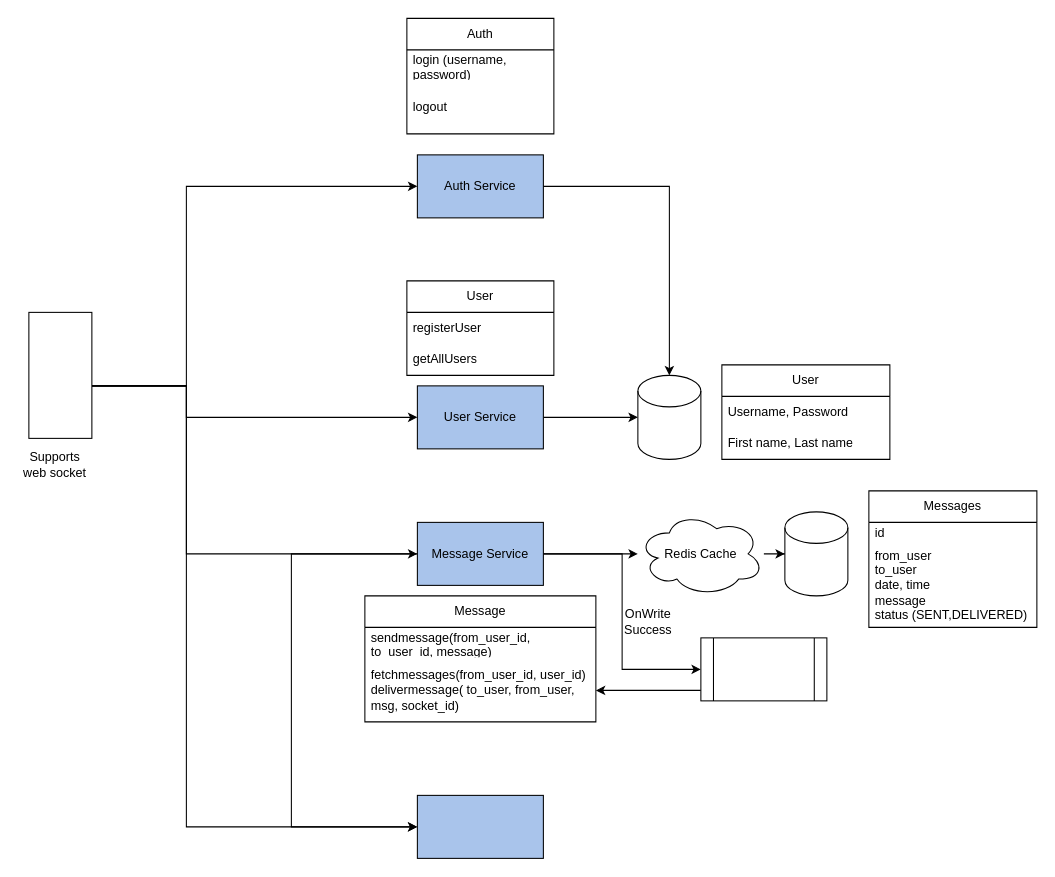
Image size: 1055x877. Some labels were removed from this diagram. Each missing label, with the centre of its shape:
"API Gateway" goes at pixel 60 374.
"Kafka" goes at pixel 763 669.
"Messages DB" goes at pixel 816 553.
"Socket Manager" goes at pixel 479 826.
"User DB" goes at pixel 669 416.
